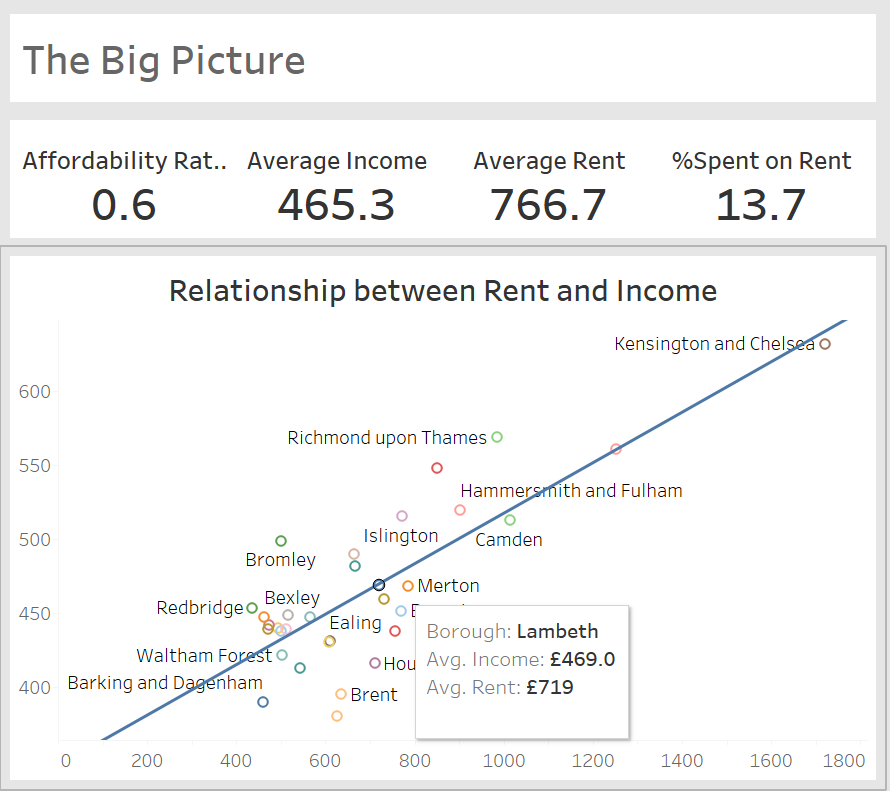

The page's visual inventory and layout, read from the dashboard file:
{"tool":"tableau","page":{"name":"Dashboard 6","canvas":[900,800],"ordinal":5},"visuals":[{"type":"text","box":[8,8,884,106]},{"type":"worksheet","title":"KPIs","mark":"Automatic","box":[8,114,884,136]},{"type":"worksheet","title":"Scatter plot","mark":"Automatic","rows":["Pay (£)"],"cols":["Price_weekly"],"box":[8,250,884,542]}]}

Visuals, with their boxes in screenshot pixels (x1, y1, x2, y2), scaled from the page's 900x800 canvas onto the 890x791 screenshot:
text: Rect(8, 8, 882, 113)
"KPIs" worksheet: Rect(8, 113, 882, 247)
"Scatter plot" worksheet: Rect(8, 247, 882, 783)
